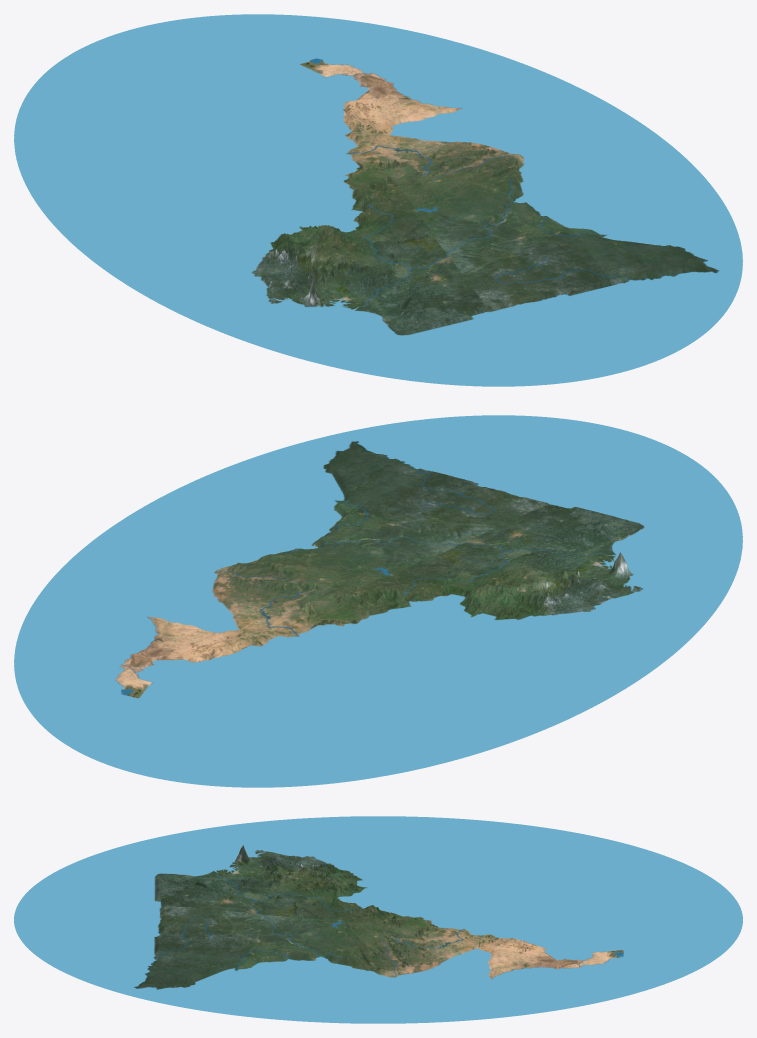
The model's file is CMR-previa-terrain.glb.
The picture shows the model from 3 angles, top to bottom: view 1: azimuth 30°, elevation 25°; view 2: azimuth 150°, elevation 25°; view 3: azimuth 270°, elevation 25°; orthographic projection. The views are drawn at different scales.
Visible parts, largest first — view 1: Camarões; view 2: Camarões; view 3: Camarões.
Boxes of the visible parts, x1,y1,x2,y2 form: Camarões: [14, 14, 742, 386]; Camarões: [14, 415, 742, 787]; Camarões: [14, 816, 742, 1023].
Bounding box in the file's own units: 1.76 × 0.0693 × 2.61.
Materials: 1 (1 with a texture image).
